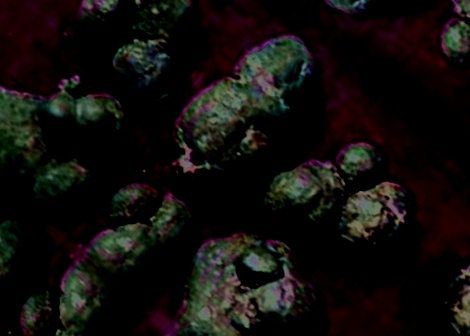halobolite: (168, 24, 322, 188), (164, 192, 329, 336), (48, 191, 184, 335), (1, 51, 137, 190), (272, 119, 405, 251), (433, 256, 470, 336)
